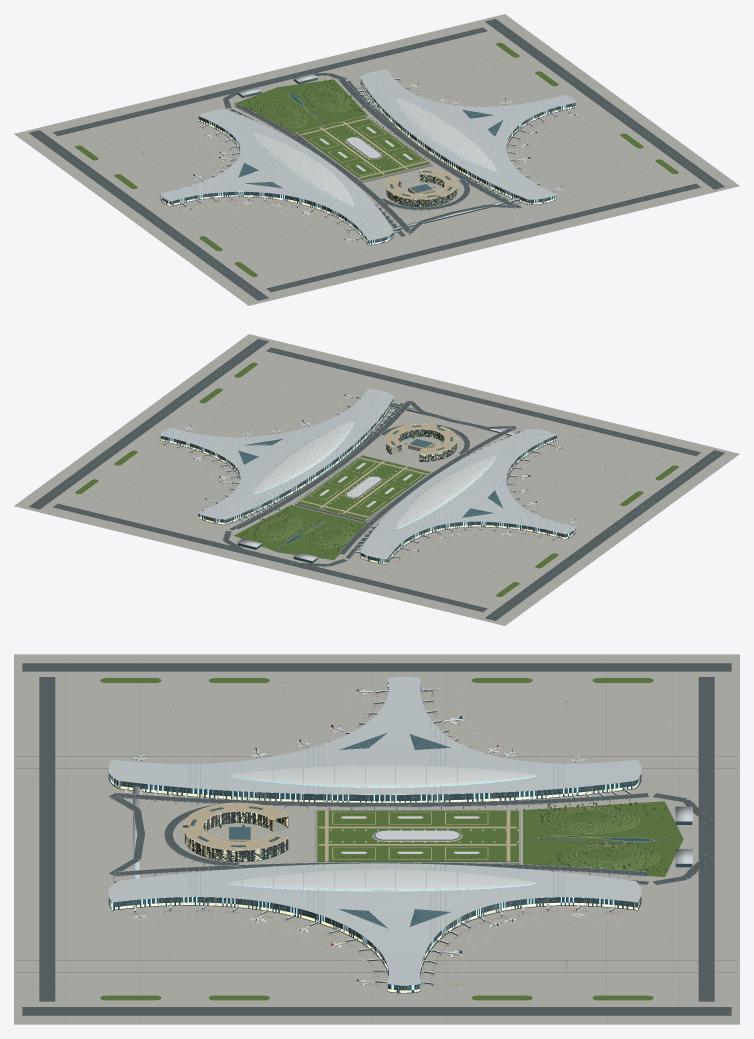
Rendered from chengdu-tianfu-airport.glb.
3 views of the same model, one above another, from view 1: azimuth 30°, elevation 25°; view 2: azimuth 150°, elevation 25°; view 3: azimuth 270°, elevation 25° (orthographic). The views are drawn at different scales.
Parts seen in each view (by area): view 1: 14_Apron_concrete, 01_Standing_seam_silver_roof, 17_Road_asphalt, 22_Terraced_roof_gardens, 02_Raised_feather_titanium, 21_Hotel_sandstone, 05_Structural_steel, 07_Curtainwall_glass_1, 03_Aluminium_edge_fascia, 07_Curtainwall_glass_2, 06_Deep_recesses, 15_Central_plaza_stone (+4 smaller); view 2: 14_Apron_concrete, 01_Standing_seam_silver_roof, 17_Road_asphalt, 22_Terraced_roof_gardens, 02_Raised_feather_titanium, 21_Hotel_sandstone, 05_Structural_steel, 07_Curtainwall_glass_1, 07_Curtainwall_glass_2, 03_Aluminium_edge_fascia, 06_Deep_recesses, 15_Central_plaza_stone (+4 smaller); view 3: 14_Apron_concrete, 01_Standing_seam_silver_roof, 17_Road_asphalt, 22_Terraced_roof_gardens, 02_Raised_feather_titanium, 21_Hotel_sandstone, 05_Structural_steel, 07_Curtainwall_glass_1, 16_Concrete_expansion_joints, 03_Aluminium_edge_fascia, 07_Curtainwall_glass_2, 06_Deep_recesses (+9 smaller).
Boxes of the visible parts, x1,y1,x2,y2 form: 14_Apron_concrete: [14, 14, 739, 305]; 01_Standing_seam_silver_roof: [160, 69, 575, 240]; 17_Road_asphalt: [29, 19, 724, 300]; 22_Terraced_roof_gardens: [75, 42, 678, 276]; 02_Raised_feather_titanium: [254, 98, 496, 205]; 21_Hotel_sandstone: [259, 86, 457, 207]; 05_Structural_steel: [142, 79, 605, 247]; 07_Curtainwall_glass_1: [161, 78, 575, 244]; 03_Aluminium_edge_fascia: [160, 76, 575, 245]; 07_Curtainwall_glass_2: [161, 79, 575, 243]; 06_Deep_recesses: [160, 82, 575, 245]; 15_Central_plaza_stone: [74, 42, 679, 277]; 14_Apron_concrete: [14, 334, 739, 625]; 01_Standing_seam_silver_roof: [160, 388, 575, 561]; 17_Road_asphalt: [29, 339, 724, 620]; 22_Terraced_roof_gardens: [75, 362, 678, 596]; 02_Raised_feather_titanium: [254, 420, 496, 527]; 21_Hotel_sandstone: [253, 423, 457, 548]; 05_Structural_steel: [142, 385, 605, 563]; 07_Curtainwall_glass_1: [159, 401, 575, 563]; 07_Curtainwall_glass_2: [161, 397, 574, 562]; 03_Aluminium_edge_fascia: [160, 388, 575, 563]; 06_Deep_recesses: [160, 402, 575, 564]; 15_Central_plaza_stone: [74, 362, 679, 597]; 14_Apron_concrete: [14, 654, 739, 1024]; 01_Standing_seam_silver_roof: [108, 677, 692, 985]; 17_Road_asphalt: [22, 663, 731, 1015]; 22_Terraced_roof_gardens: [100, 678, 683, 1000]; 02_Raised_feather_titanium: [229, 764, 534, 890]; 21_Hotel_sandstone: [183, 802, 659, 869]; 05_Structural_steel: [106, 681, 671, 992]; 07_Curtainwall_glass_1: [110, 682, 692, 992]; 16_Concrete_expansion_joints: [16, 655, 737, 1023]; 03_Aluminium_edge_fascia: [108, 676, 641, 993]; 07_Curtainwall_glass_2: [111, 690, 639, 990]; 06_Deep_recesses: [108, 686, 641, 993].
Bounding box in the file's own units: 2100 × 37.93 × 1740.
